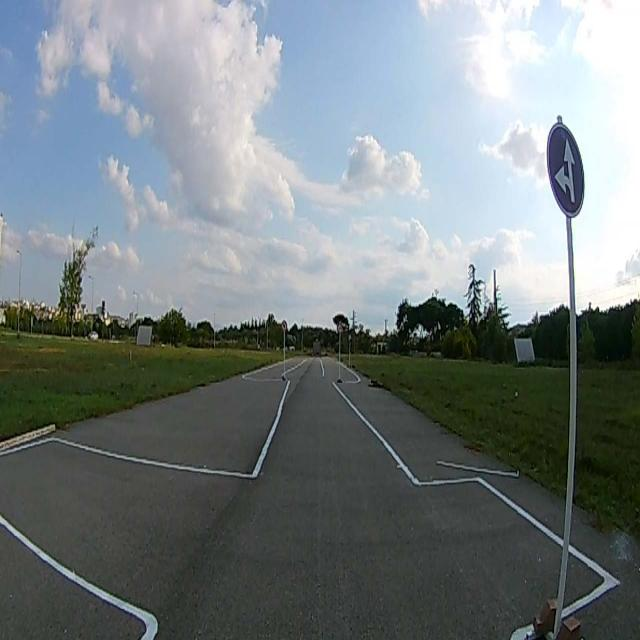ilerisol: (546, 121, 586, 211)
